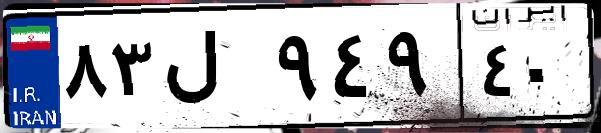0: (525, 38, 570, 115)
3: (110, 28, 158, 98)
4: (330, 28, 385, 110), (475, 38, 525, 113)
8: (57, 26, 110, 100)
9: (270, 28, 330, 110), (385, 28, 445, 110)
ل: (158, 20, 270, 120)
